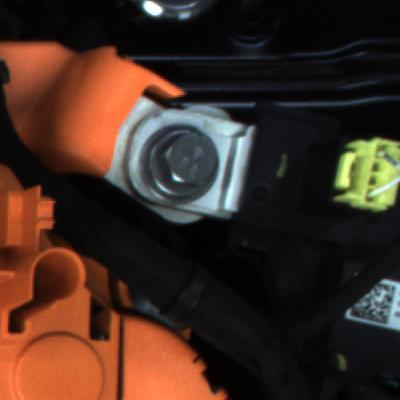nut_b: (130, 118, 230, 204)
